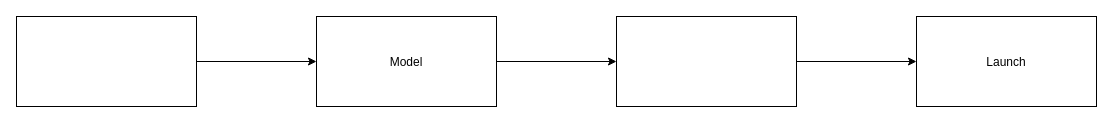
Image size: 1113x123. Some labels were removed from this diagram. Each missing label, with the box of its shape:
Sketch: (16, 16, 196, 106)
Test: (616, 16, 796, 106)
